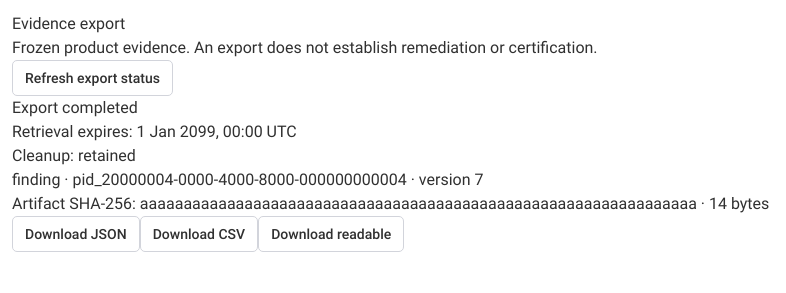
Test: Agent export panel › hands verified bytes to the browser without claiming a saved file
Click the button "Download JSON" at (76, 234), box [12,216,140,252]
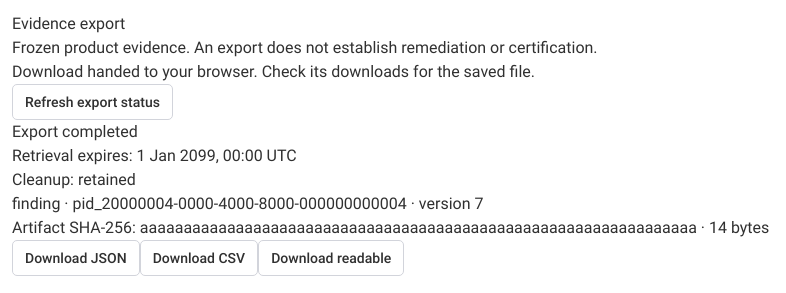
Expected: the text "Download handed to your browser. Check its downloads for the saved file." is shown, [12,62,535,81]
